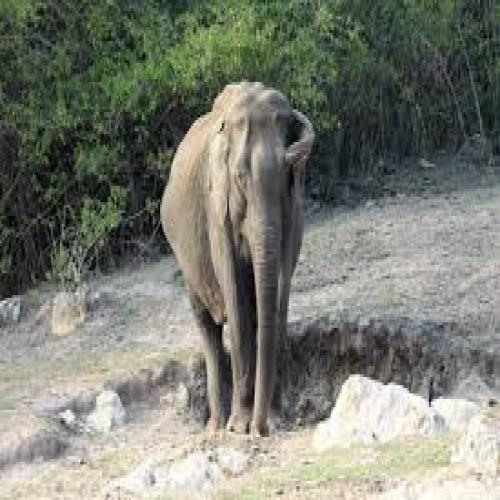asian_elephant-endangered: (159, 84, 314, 433)
